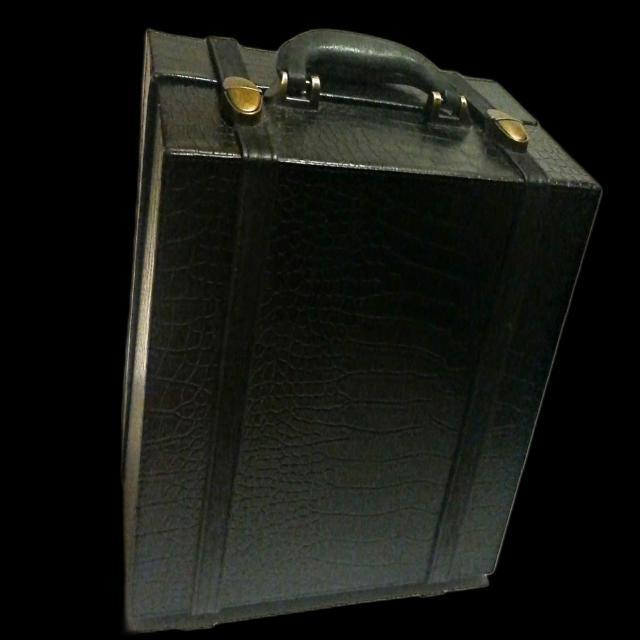Suitcase: (119, 21, 607, 640)
